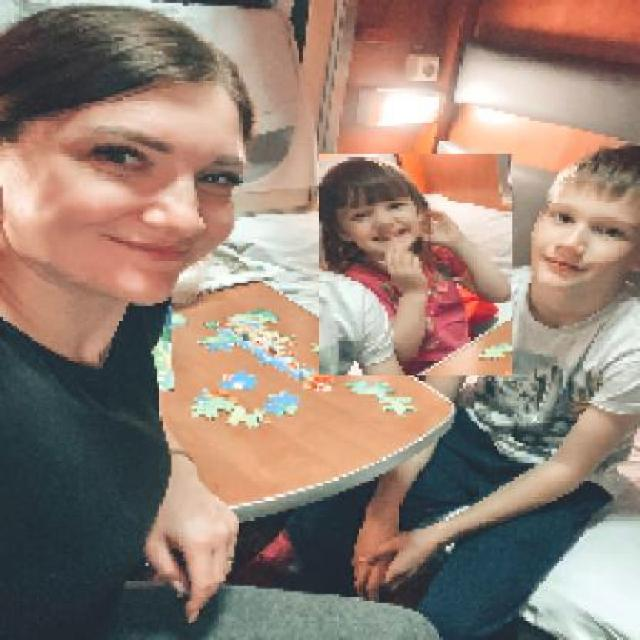child: (318, 154, 512, 377)
